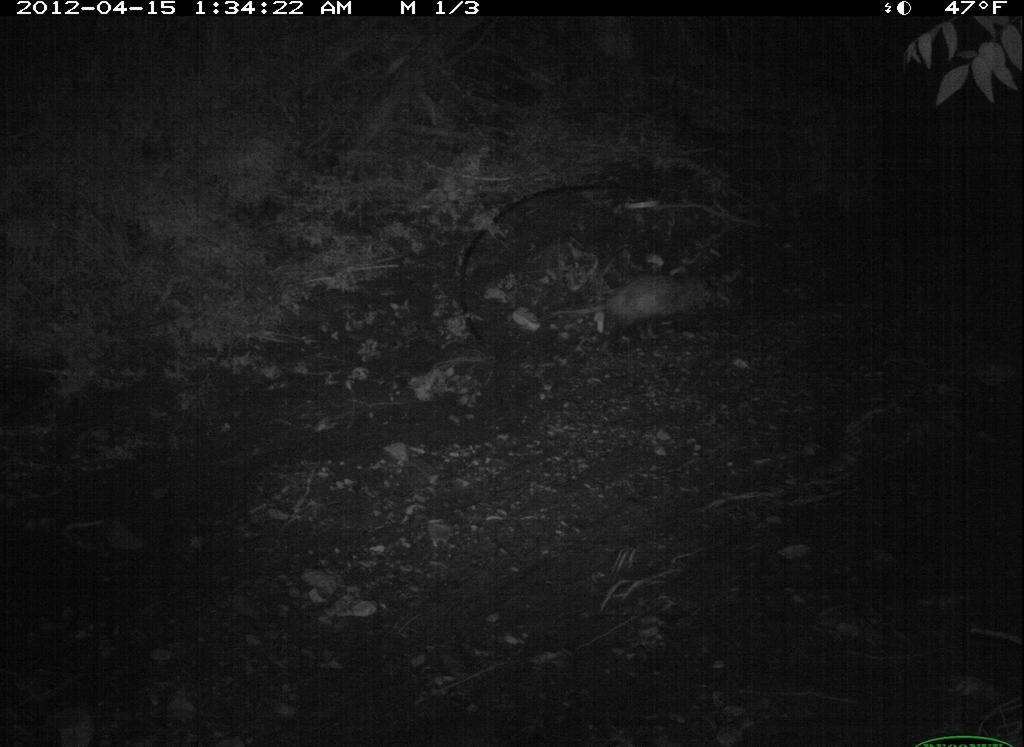opossum: (548, 263, 763, 342)
